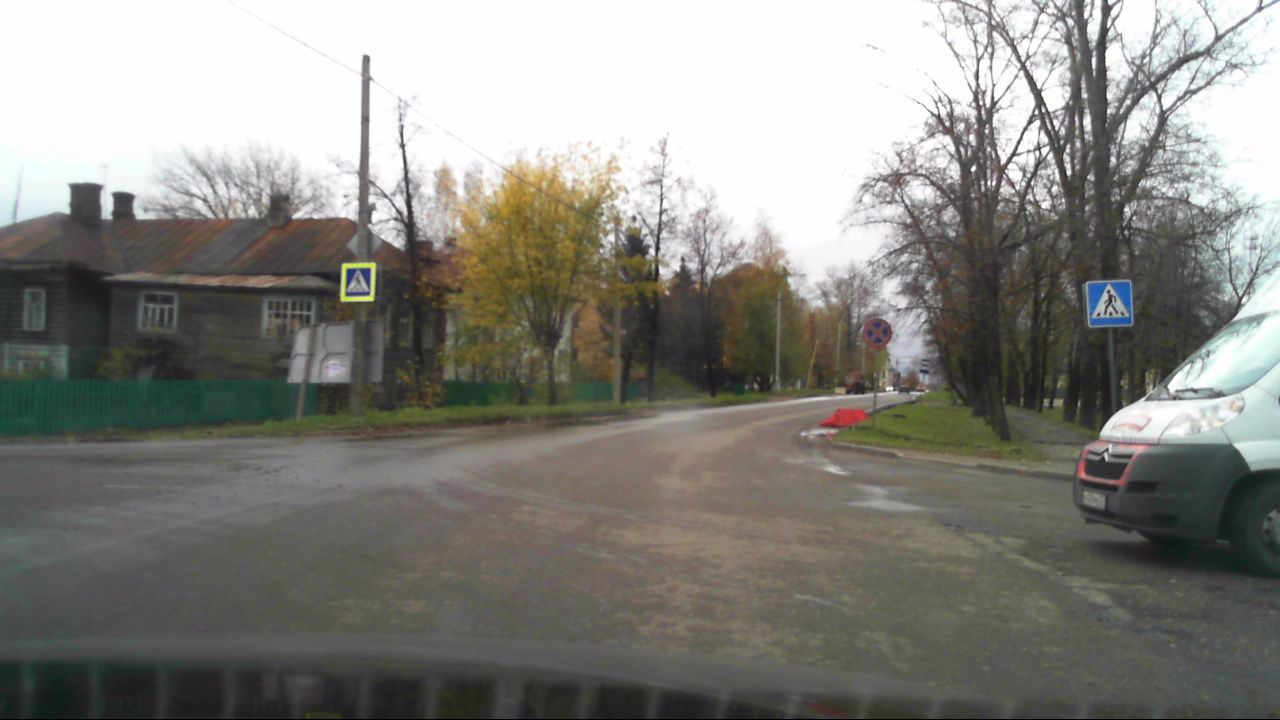No Parking: (861, 319, 893, 349)
